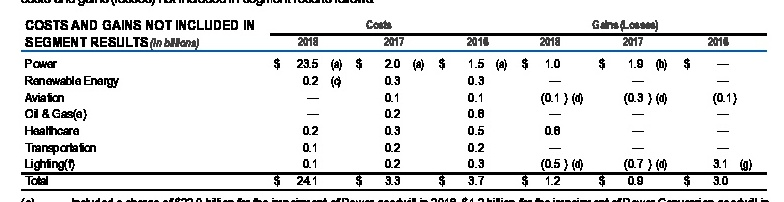table: (0, 0, 784, 202)
